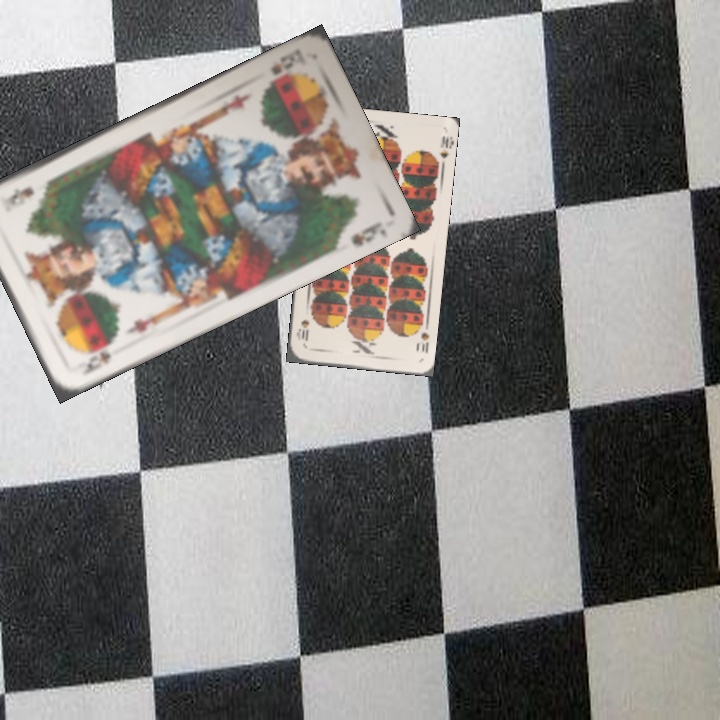S10: (417, 328, 432, 356)
SK: (78, 337, 120, 376), (266, 49, 308, 78)
